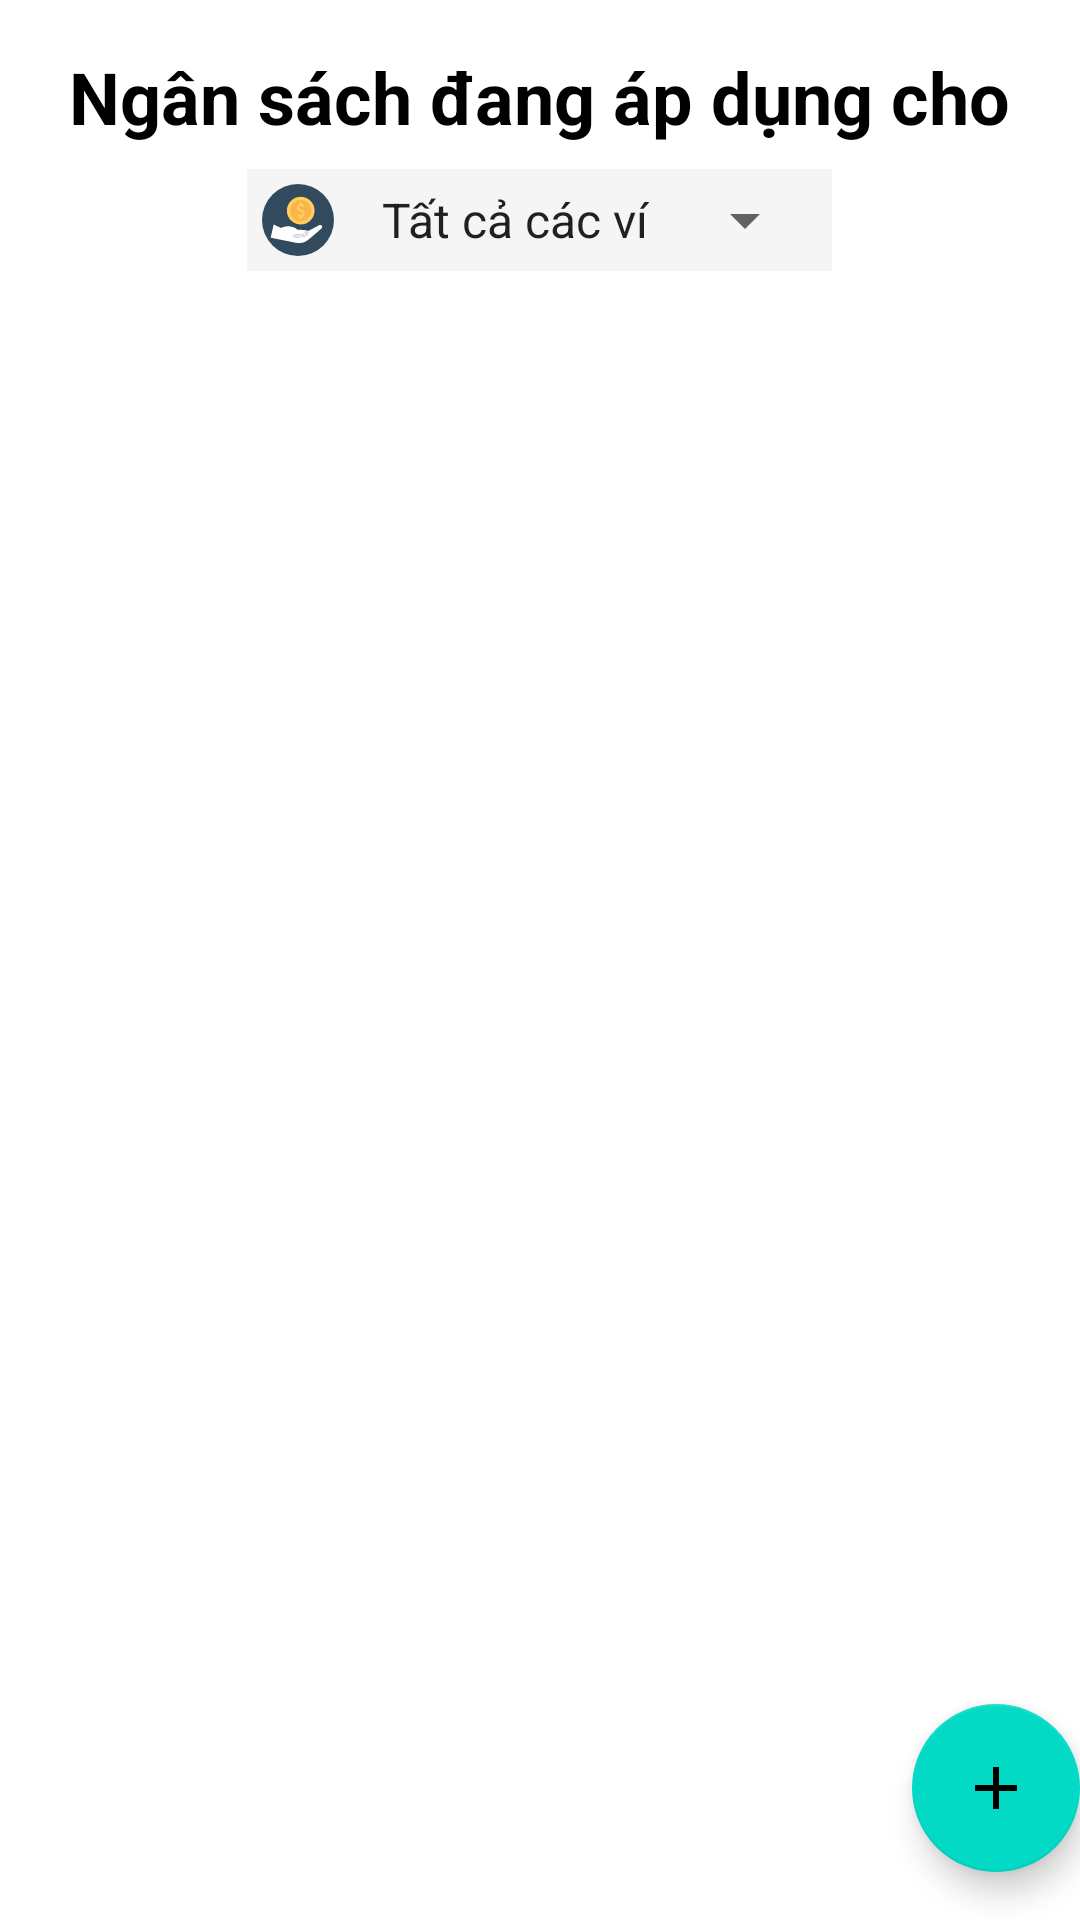

Where to tap for icons on this 1080 × 1920 app screen, as (x,y):
add: (996,1788)
allwallet: (298,220)
